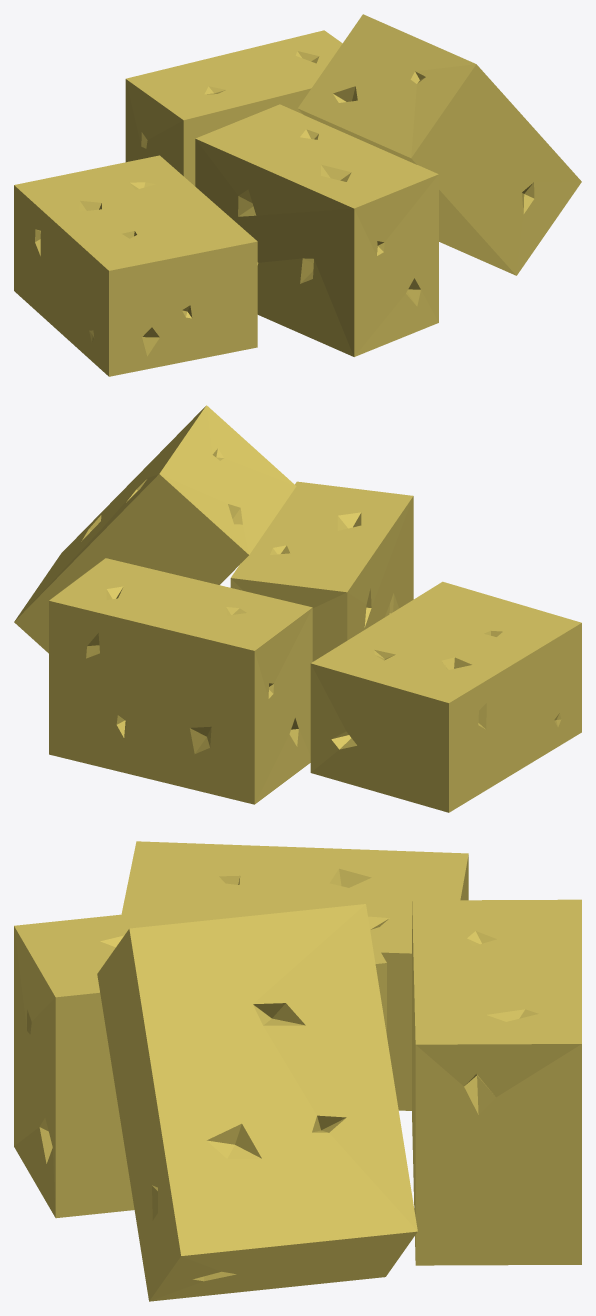
Rendered from SM_Cheese_Sliced.fbx.
3 renders of one model, top to bottom at view 1: azimuth 30°, elevation 25°; view 2: azimuth 150°, elevation 25°; view 3: azimuth 270°, elevation 25°, orthographic. The views are drawn at different scales.
Parts seen in each view (by area): view 1: sliced cheese; view 2: sliced cheese; view 3: sliced cheese.
Part boxes in pixels (bbox=[...]): sliced cheese: bbox=[14, 14, 581, 376]; sliced cheese: bbox=[14, 405, 581, 812]; sliced cheese: bbox=[14, 841, 581, 1301].
Bounding box in the file's own units: 43.13 × 19.27 × 29.25.
